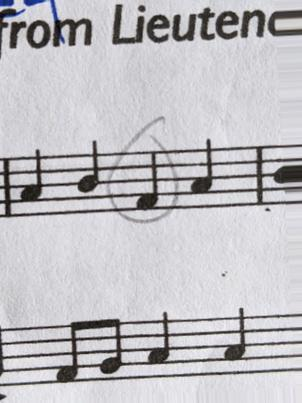A: (184, 138, 220, 208), (15, 146, 49, 216), (220, 304, 253, 373), (144, 312, 177, 381)
B: (73, 137, 108, 210)
F: (130, 150, 169, 211)
